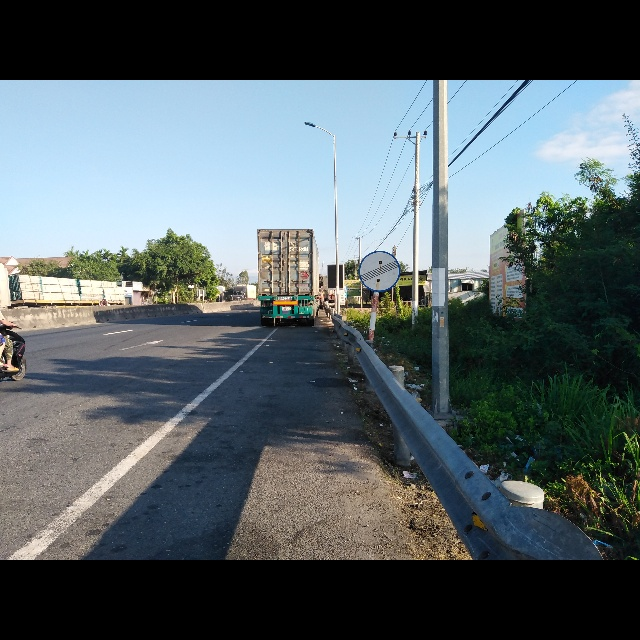Hết tất cả các lệnh cấm: (358, 248, 400, 290)
